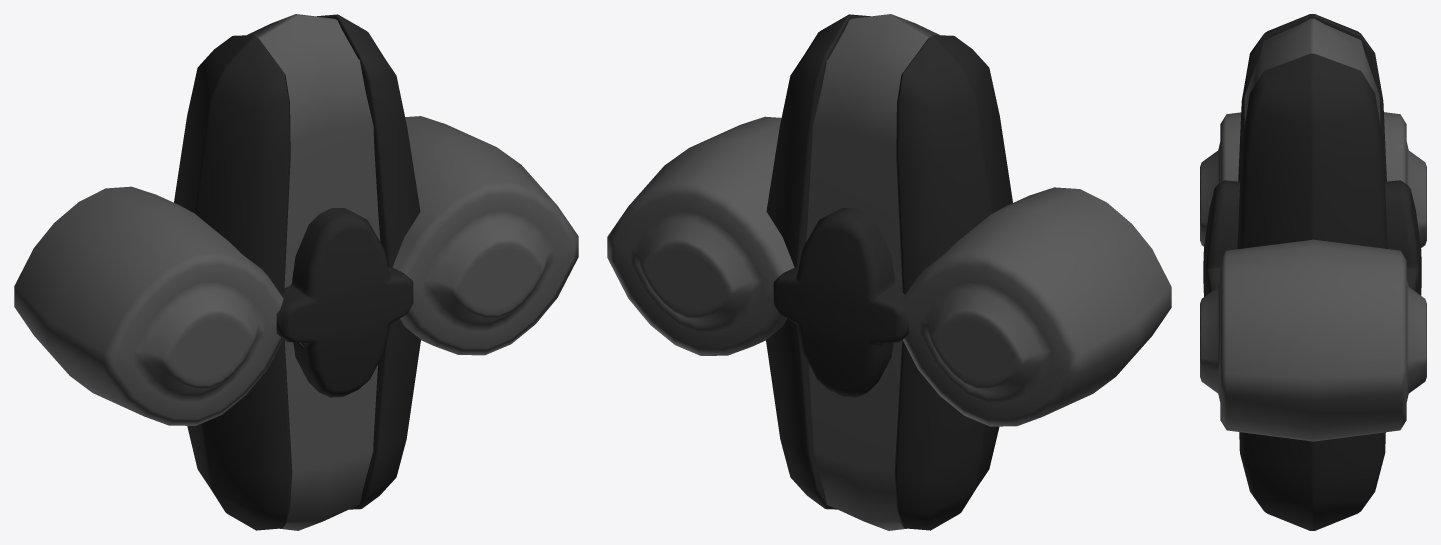
Rendered from _objects_space_01.fbx.
The picture shows the model from 3 angles, left to right: view 1: azimuth 30°, elevation 25°; view 2: azimuth 150°, elevation 25°; view 3: azimuth 270°, elevation 25°; orthographic projection. The views are drawn at different scales.
Parts seen in each view (by area): view 1: Оbjects_space_01; view 2: Оbjects_space_01; view 3: Оbjects_space_01.
Part boxes in pixels (x1,y1,x2,y2): Оbjects_space_01: (14,14,578,530); Оbjects_space_01: (607,14,1171,530); Оbjects_space_01: (1200,14,1426,530).
Bounding box in the file's own units: 110 × 109 × 45.06.
1 material, 1 textured.
